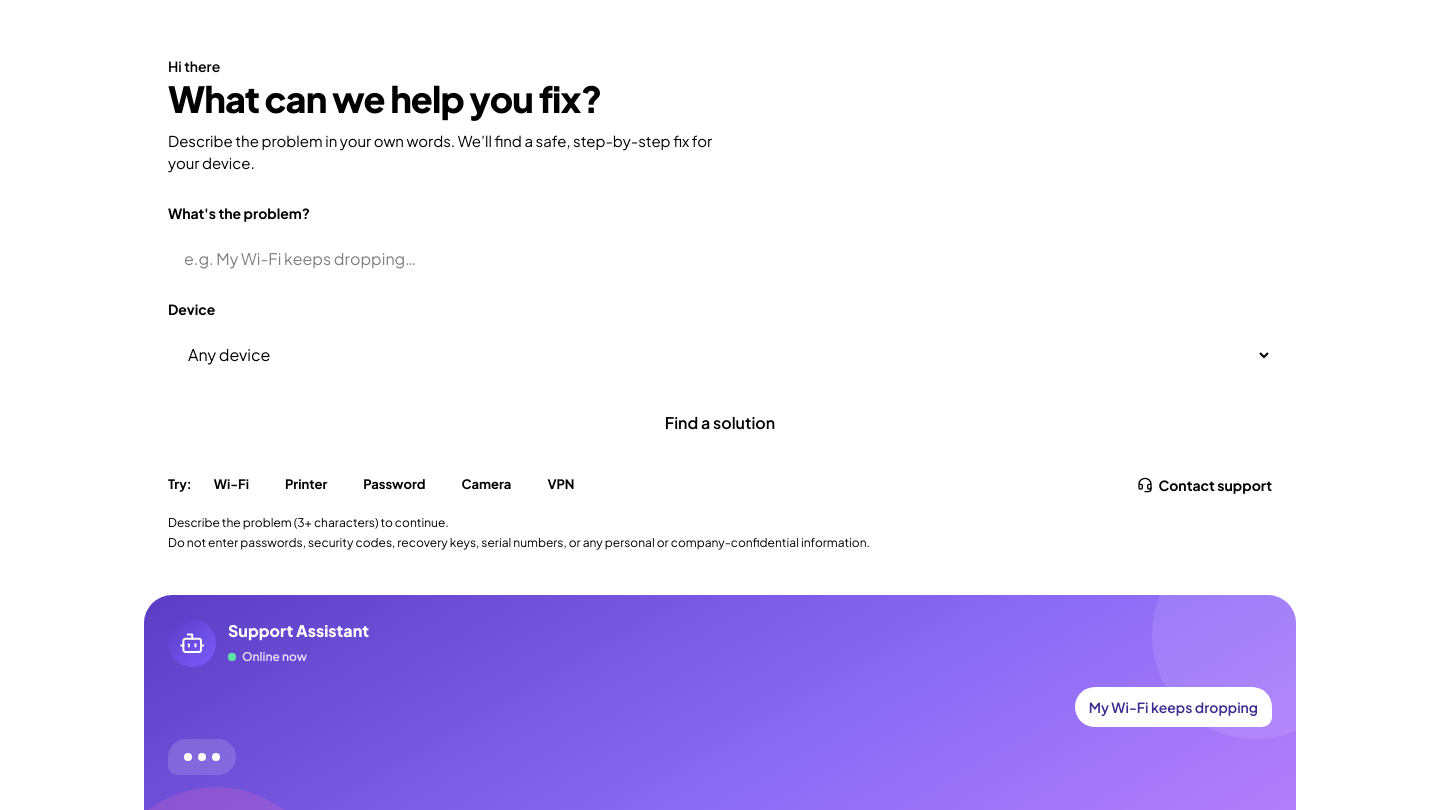
Test: HomeStart › fills the textarea from a quick-search chip
Click the button "Wi-Fi".
click(231, 485)  # box [200,467,263,503]
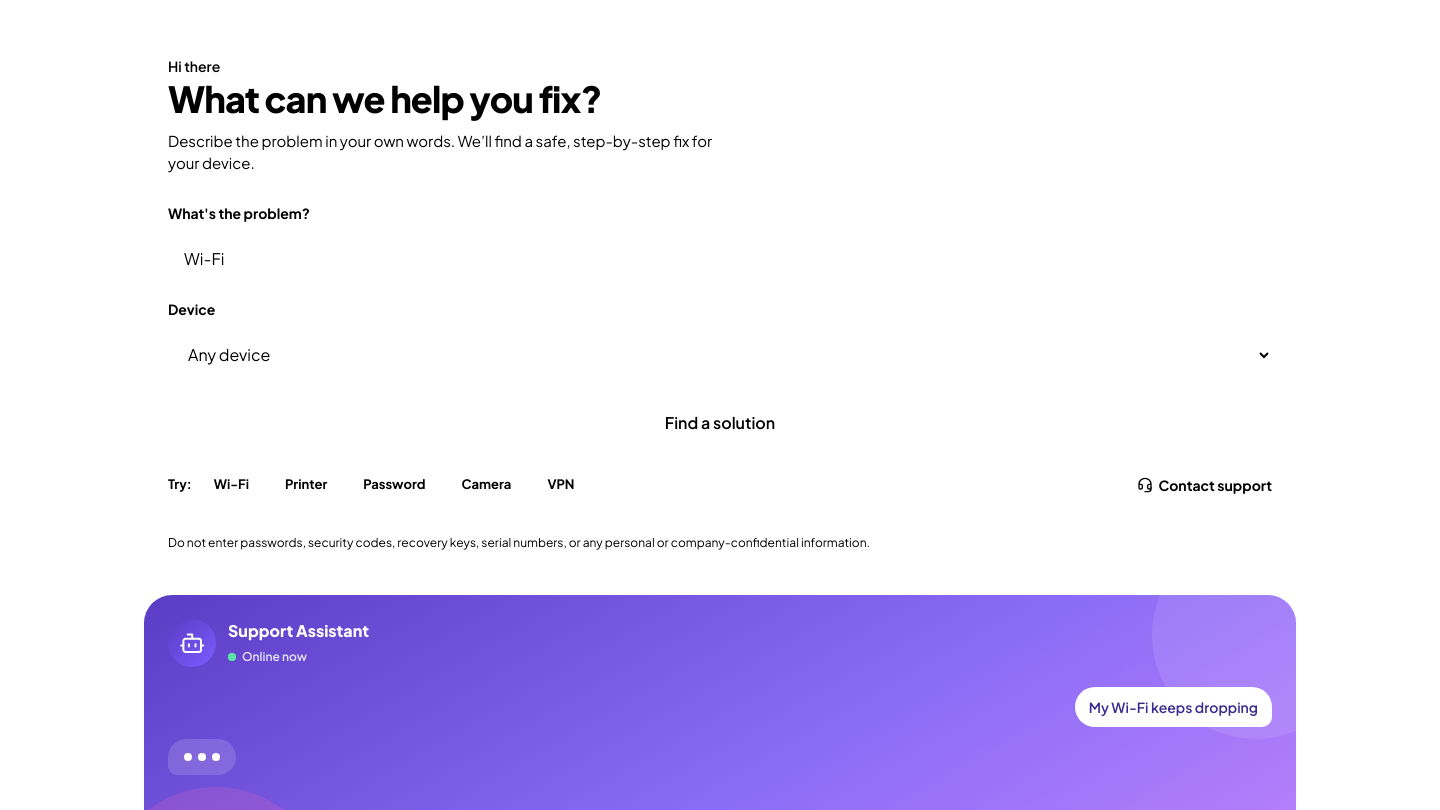
Expected: the button "Find a solution" is enabled, [168,395,1272,451]
Now the field labelled "What's the problem?" holds "Wi-Fi", box [168,231,1272,287]
